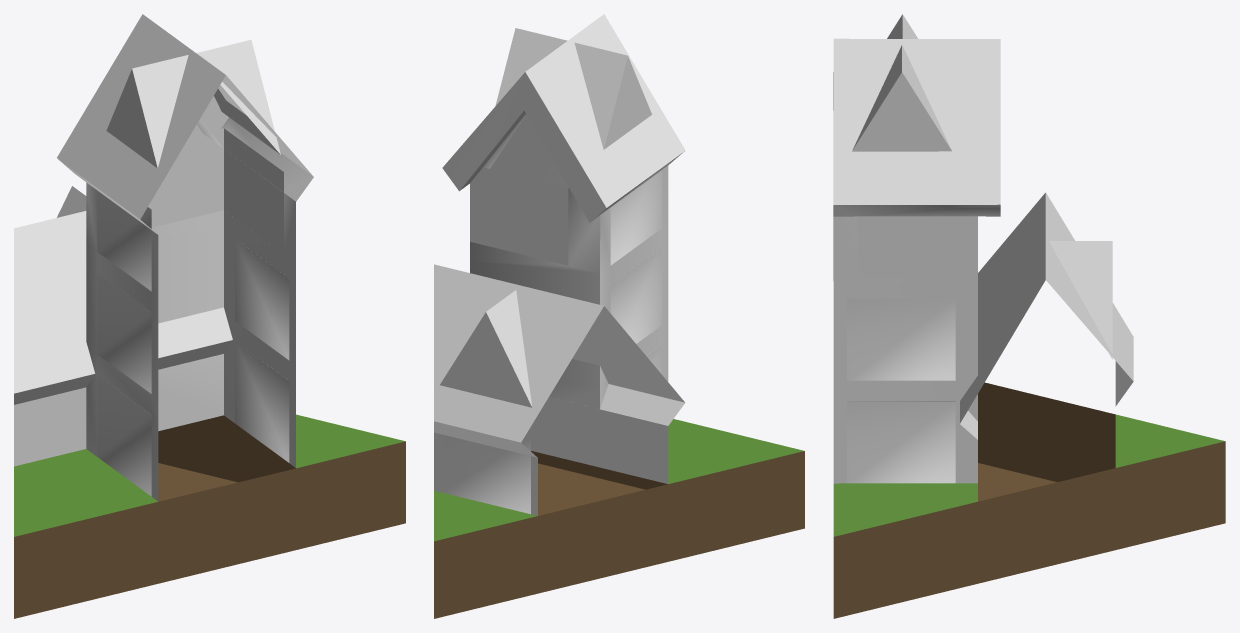
File: Pis_Interseccio_PE_CD_CE.fbx
3 views of the same model, side by side, from view 1: azimuth 30°, elevation 25°; view 2: azimuth 150°, elevation 25°; view 3: azimuth 270°, elevation 25° (orthographic). The views are drawn at different scales.
Parts seen in each view (by area): view 1: Pis_Interseccio_PE_CD_CE, DetallCantonada.010, DetallTeulada.040, DetallParet.087, DetallParet.082, DetallParet.086, DetallParet.083, DetallTeulada.041, DetallParet.088, DetallTeulada.001; view 2: Pis_Interseccio_PE_CD_CE, DetallCantonada.010, DetallTeulada.001, DetallParet.084, DetallTeulada.040, DetallParet.087, DetallParet.088, DetallAltell_1.008, DetallTeulada.041; view 3: Pis_Interseccio_PE_CD_CE, DetallParet.082, DetallParet.083, DetallCantonada.010, DetallTeulada.041, DetallTeulada.001.
Part boxes in pixels (x1=…): Pis_Interseccio_PE_CD_CE: x1=14, y1=14, x2=405, y2=618; DetallCantonada.010: x1=148, y1=128, x2=283, y2=253; DetallTeulada.040: x1=106, y1=55, x2=188, y2=183; DetallParet.087: x1=97, y1=272, x2=151, y2=393; DetallParet.082: x1=235, y1=239, x2=289, y2=360; DetallParet.086: x1=97, y1=375, x2=151, y2=496; DetallParet.083: x1=235, y1=341, x2=289, y2=462; DetallTeulada.041: x1=196, y1=40, x2=280, y2=154; DetallParet.088: x1=97, y1=190, x2=151, y2=291; DetallTeulada.001: x1=57, y1=186, x2=86, y2=217; Pis_Interseccio_PE_CD_CE: x1=434, y1=14, x2=804, y2=618; DetallCantonada.010: x1=470, y1=167, x2=568, y2=265; DetallTeulada.001: x1=440, y1=290, x2=532, y2=407; DetallParet.084: x1=442, y1=434, x2=530, y2=514; DetallTeulada.040: x1=574, y1=42, x2=651, y2=149; DetallParet.087: x1=610, y1=248, x2=661, y2=343; DetallParet.088: x1=610, y1=170, x2=661, y2=265; DetallAltell_1.008: x1=490, y1=115, x2=568, y2=188; DetallTeulada.041: x1=495, y1=28, x2=567, y2=105; Pis_Interseccio_PE_CD_CE: x1=833, y1=38, x2=1225, y2=618; DetallParet.082: x1=847, y1=298, x2=955, y2=380; DetallParet.083: x1=847, y1=401, x2=955, y2=483; DetallCantonada.010: x1=857, y1=216, x2=977, y2=277; DetallTeulada.041: x1=852, y1=45, x2=951, y2=151; DetallTeulada.001: x1=1049, y1=241, x2=1112, y2=359.
Bounding box in the file's own units: 100 × 120 × 86.68.
